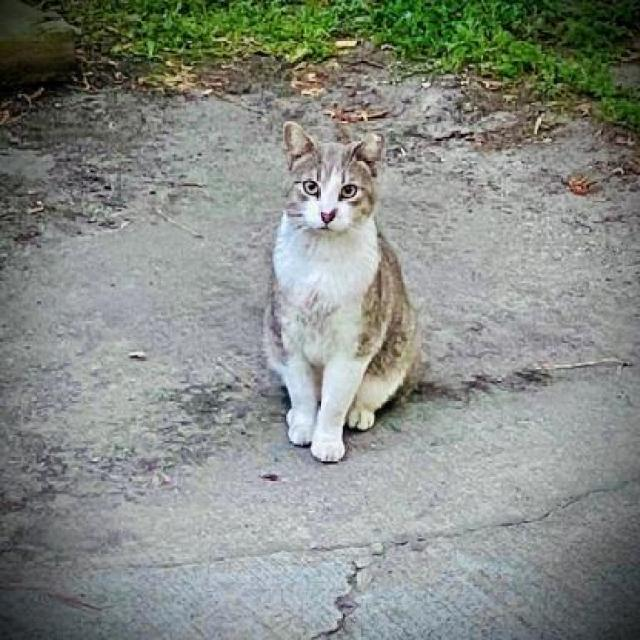cat: (260, 119, 442, 470)
